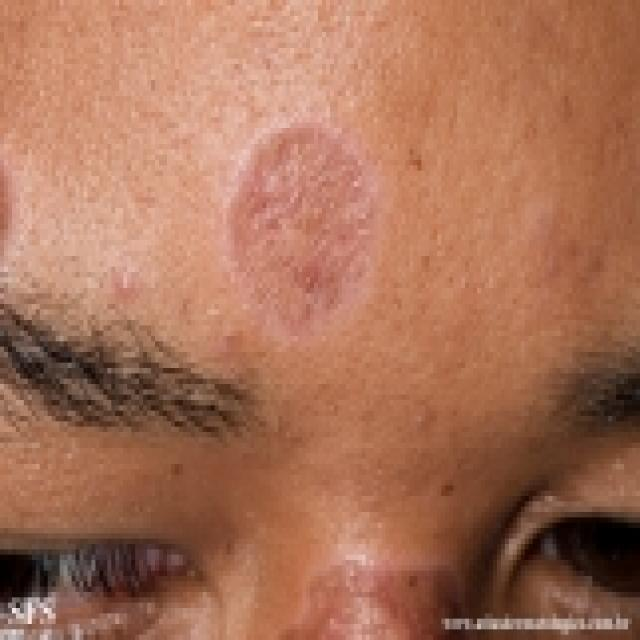lupus: (206, 93, 412, 353)
